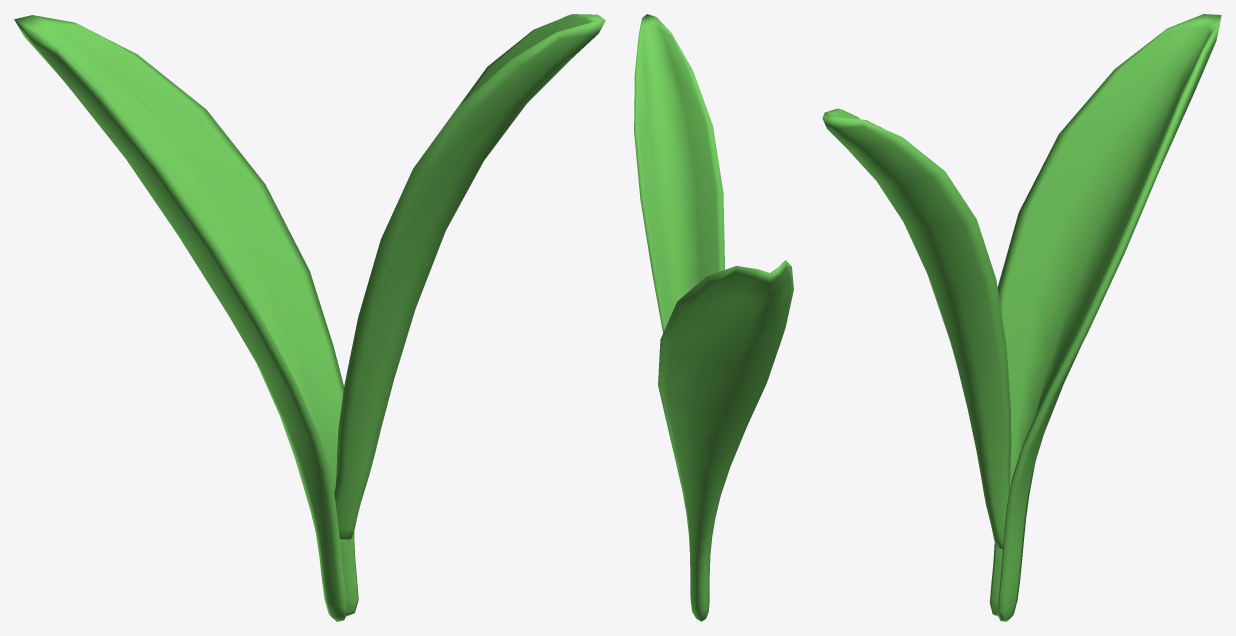
Rendered from Pumkin_Small.fbx.
3 views of the same model, side by side, from view 1: azimuth 30°, elevation 25°; view 2: azimuth 150°, elevation 25°; view 3: azimuth 270°, elevation 25° (orthographic). The views are drawn at different scales.
Visible parts, largest first — view 1: Pumkin_Small; view 2: Pumkin_Small; view 3: Pumkin_Small.
Boxes of the visible parts, left/top/right/bottom form: Pumkin_Small: left=14, top=14, right=605, bottom=621; Pumkin_Small: left=634, top=14, right=793, bottom=621; Pumkin_Small: left=822, top=14, right=1221, bottom=621.
Size of the model in its own units: 32.05 by 52.05 by 32.65.
